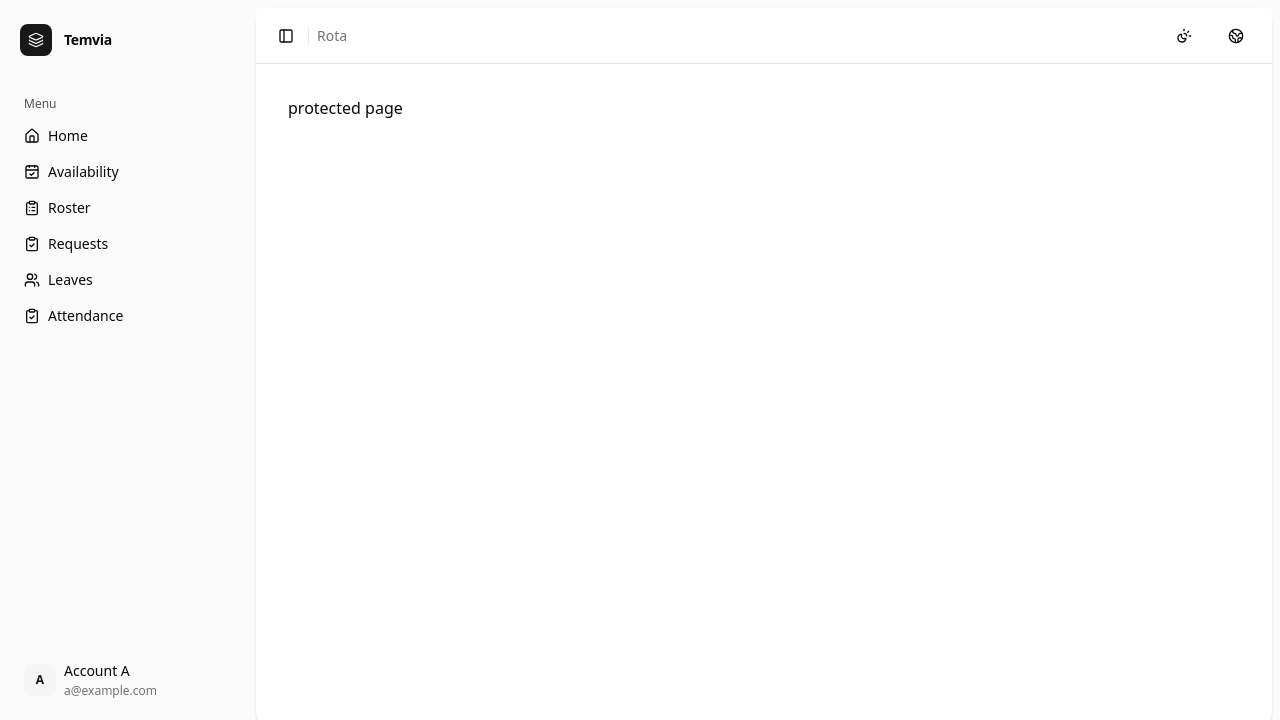
Test: AuthenticatedShell navigation and logout boundaries › keeps personal settings keyboard-accessible in the avatar menu in en
Click the button "A Account A a@example.com" at (128, 680), box [16, 656, 240, 704]
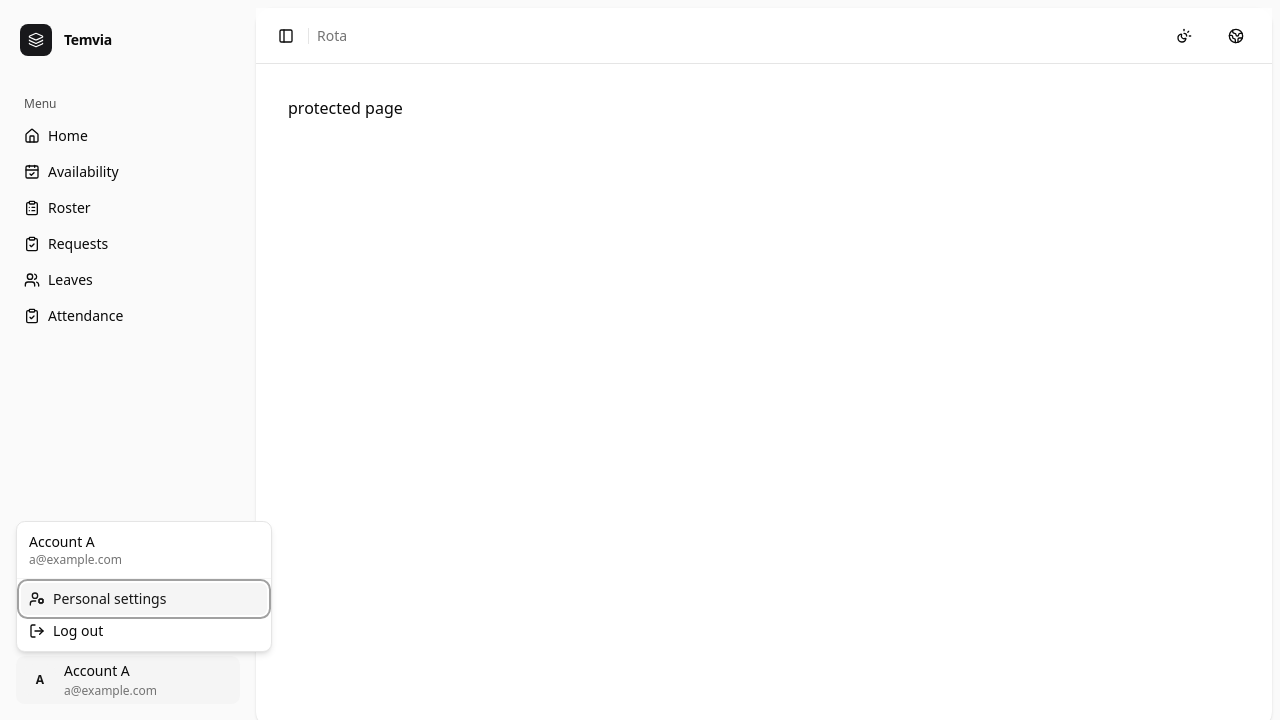
Press Enter
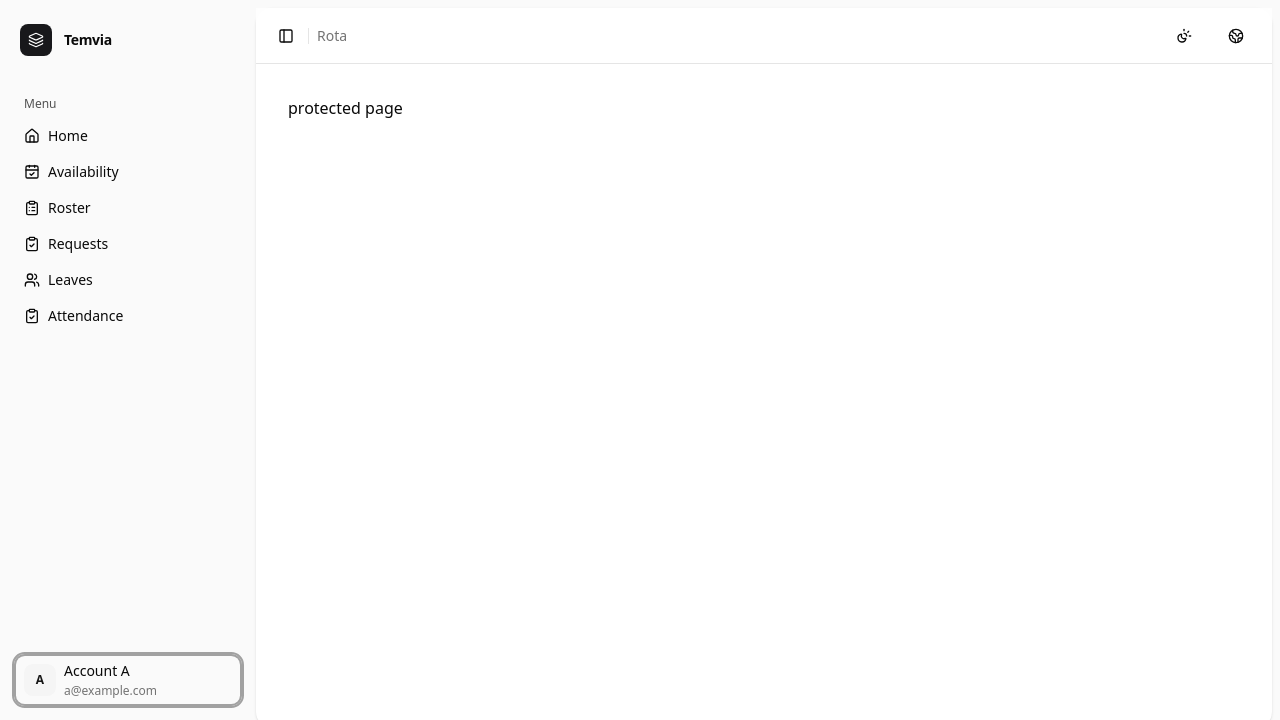
expect the menu item "Personal settings" is gone: met
